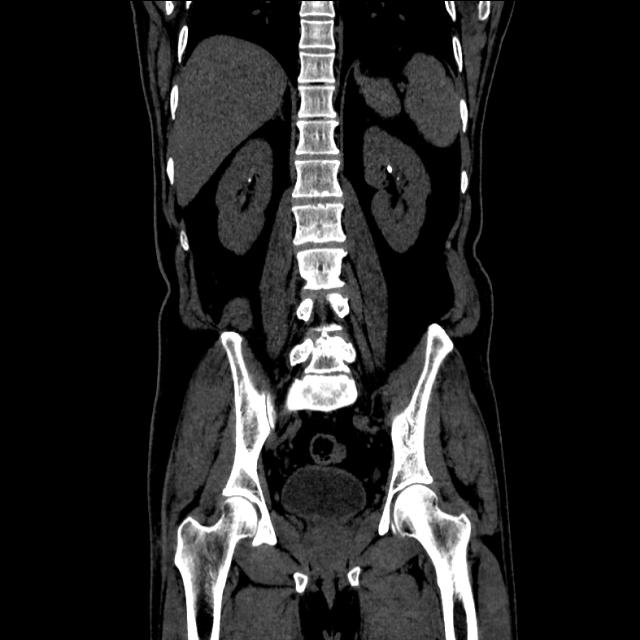kidney: (359, 114, 434, 255), (215, 131, 277, 262)
stone: (384, 160, 396, 181), (242, 172, 257, 188)
